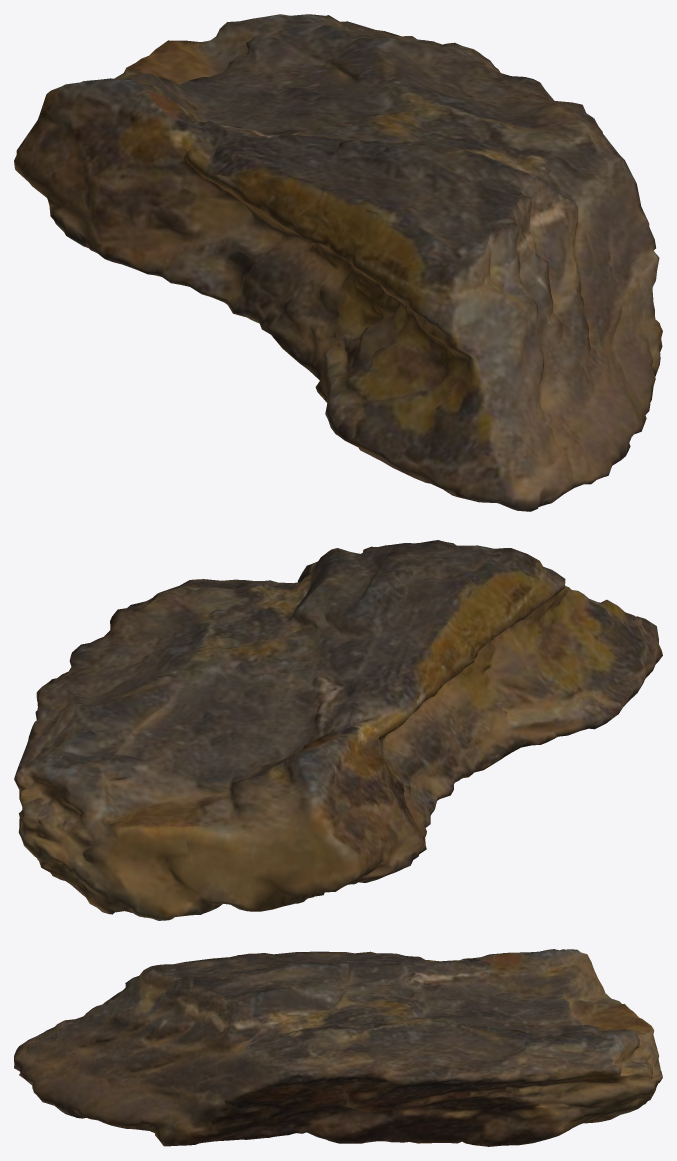
The model's file is rock_09.glb.
3 renders of one model, top to bottom at view 1: azimuth 30°, elevation 25°; view 2: azimuth 150°, elevation 25°; view 3: azimuth 270°, elevation 25°, orthographic. The views are drawn at different scales.
Visible parts, largest first — view 1: rock_09_LOD0; view 2: rock_09_LOD0; view 3: rock_09_LOD0.
Boxes of the visible parts, x1,y1,x2,y2 form: rock_09_LOD0: [14, 14, 662, 511]; rock_09_LOD0: [14, 540, 662, 920]; rock_09_LOD0: [14, 949, 662, 1146].
Size of the model in its own units: 0.074 by 0.0329 by 0.1446.
1 material, 1 textured.
